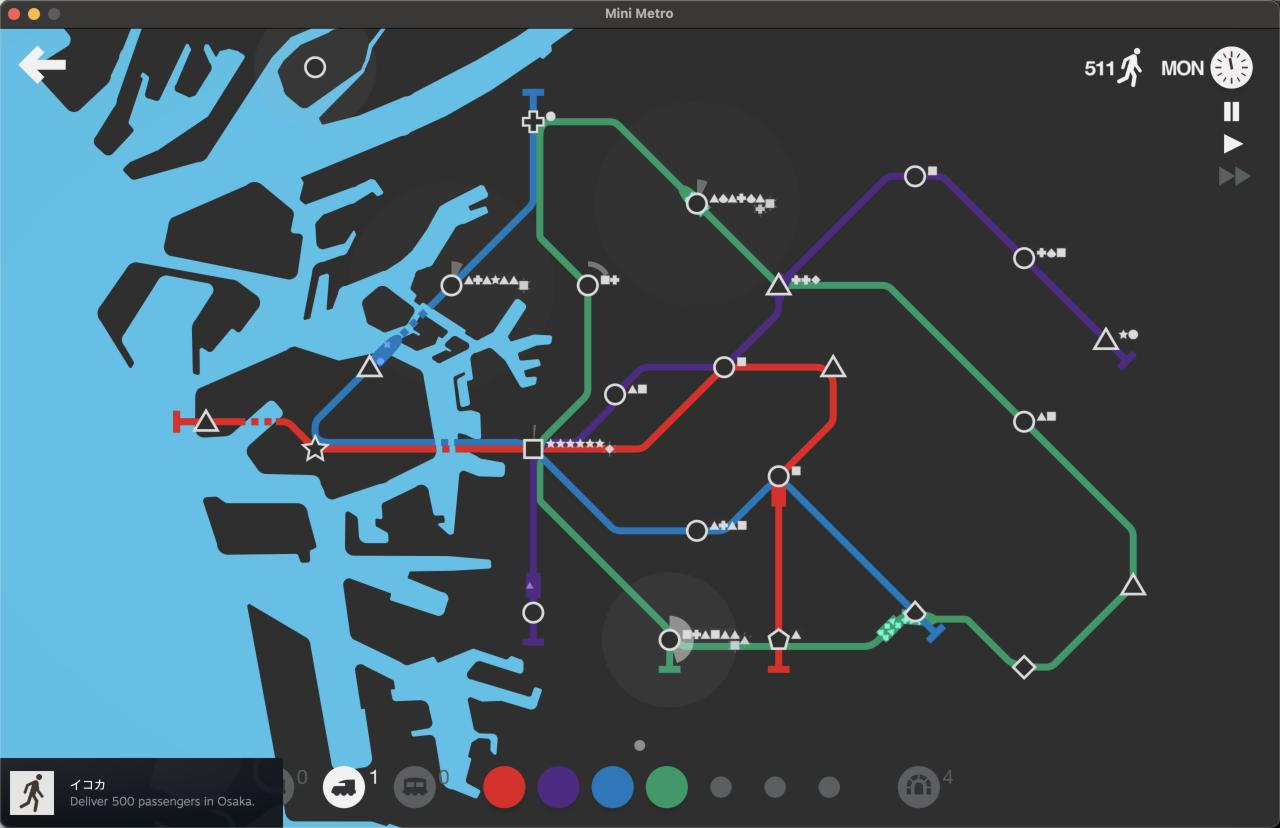CIRCLE: (521, 600, 545, 625), (576, 273, 600, 297), (685, 192, 709, 216), (604, 383, 627, 407), (767, 464, 790, 488), (685, 519, 708, 543), (658, 628, 681, 652), (1013, 410, 1036, 434), (1013, 246, 1036, 270), (303, 55, 326, 79), (440, 274, 463, 297), (713, 355, 736, 378), (904, 165, 926, 189)
CROSS: (521, 111, 544, 132)
GEM: (1012, 654, 1037, 680)
PENTAGON: (767, 627, 791, 651)
SQUARE: (523, 438, 544, 460)
STAR: (299, 433, 329, 462)
TRIANGLE: (1092, 325, 1120, 352), (765, 271, 793, 297), (820, 352, 848, 378), (193, 408, 221, 434), (356, 354, 384, 379), (1121, 573, 1146, 595)
WEDGE: (903, 599, 927, 624)
